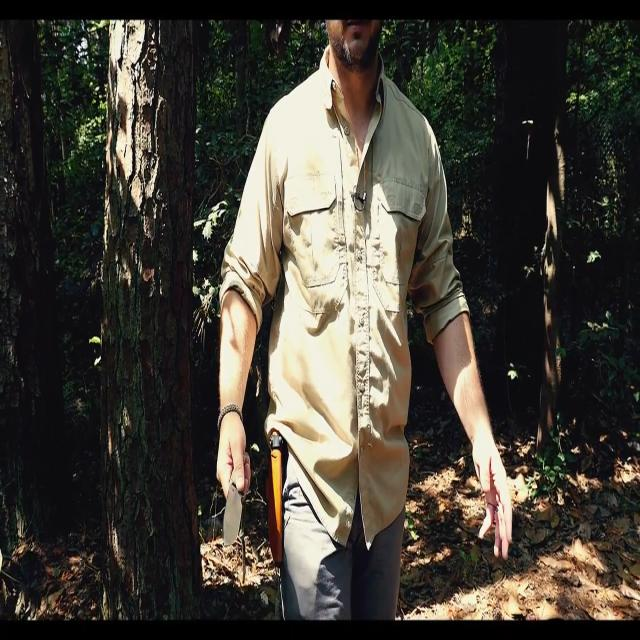knife: (221, 483, 247, 553)
